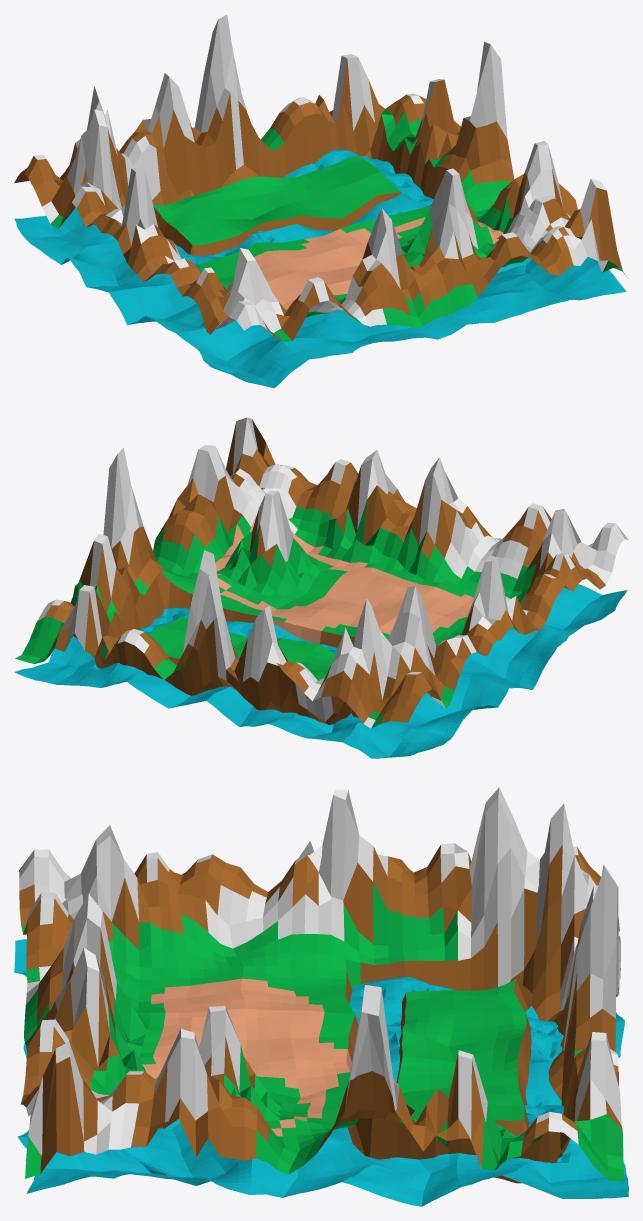
The model's file is landscape2withDirt.fbx.
3 renders of one model, top to bottom at view 1: azimuth 30°, elevation 25°; view 2: azimuth 150°, elevation 25°; view 3: azimuth 270°, elevation 25°, orthographic. The views are drawn at different scales.
Visible parts, largest first — view 1: land2, water2; view 2: land2, water2; view 3: land2, water2.
Boxes of the visible parts, x1,y1,x2,y2 form: land2: (14,15,626,341); water2: (14,149,626,388); land2: (15,417,628,728); water2: (14,584,626,758); land2: (19,787,623,1183); water2: (14,939,628,1206).
Size of the model in its own units: 208 by 91.46 by 207.
